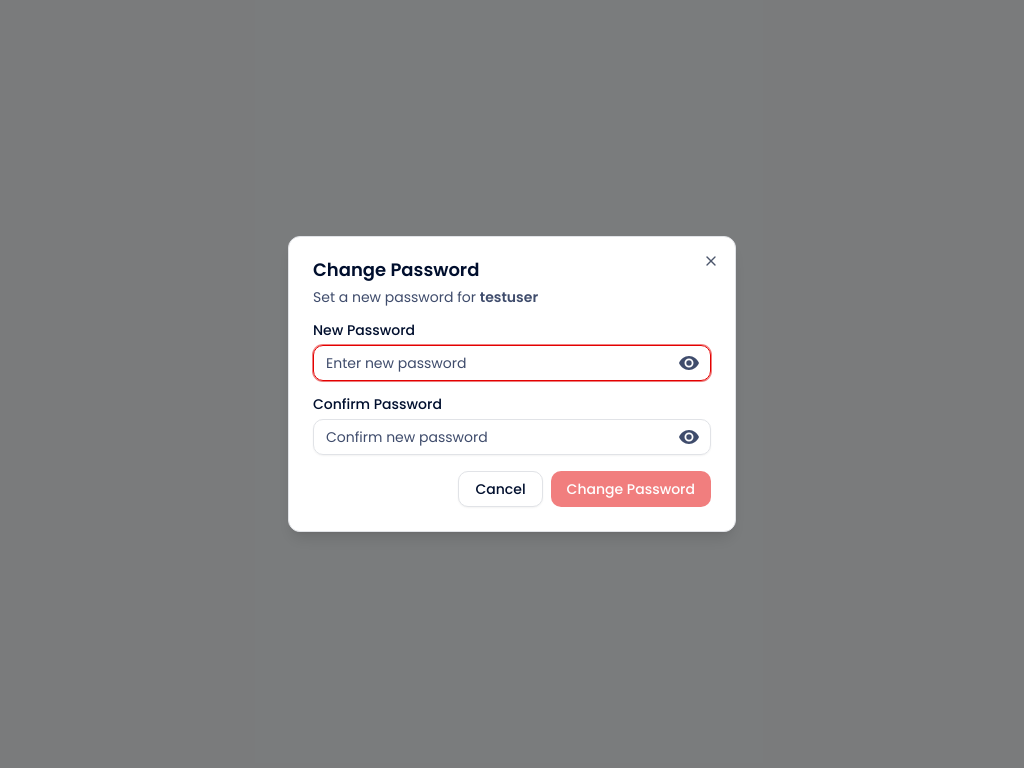
Test: ChangePasswordDialog › shows confirm password mismatch error
This screenshot has width=1024, height=768.
Type "password123" into the password field with placeholder "Enter new password".
click(512, 363); type("password123")  # box [313,345,711,381]
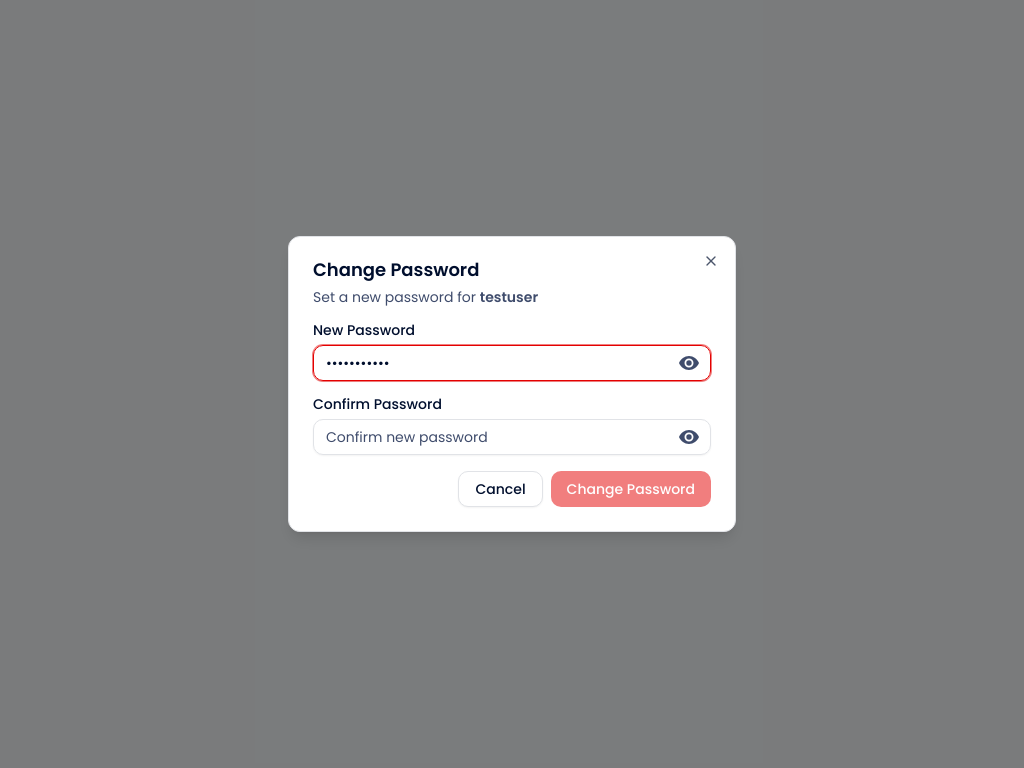
Type "different123" into the password field with placeholder "Confirm new password".
click(512, 437); type("different123")  # box [313,419,711,455]
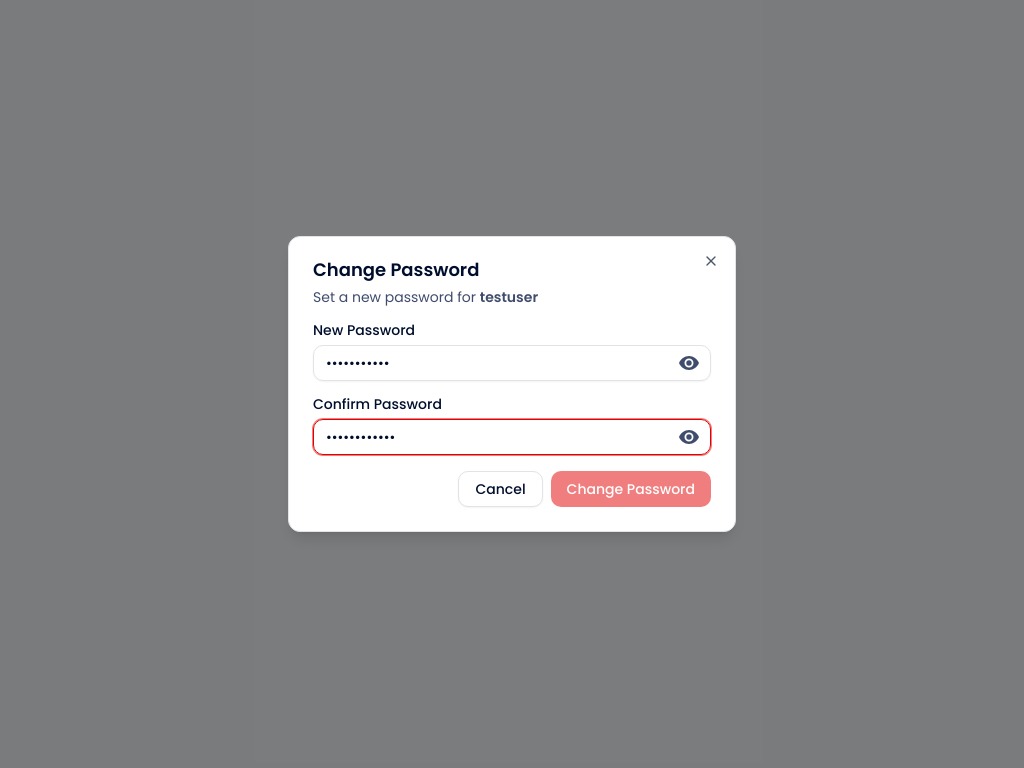
Press Tab
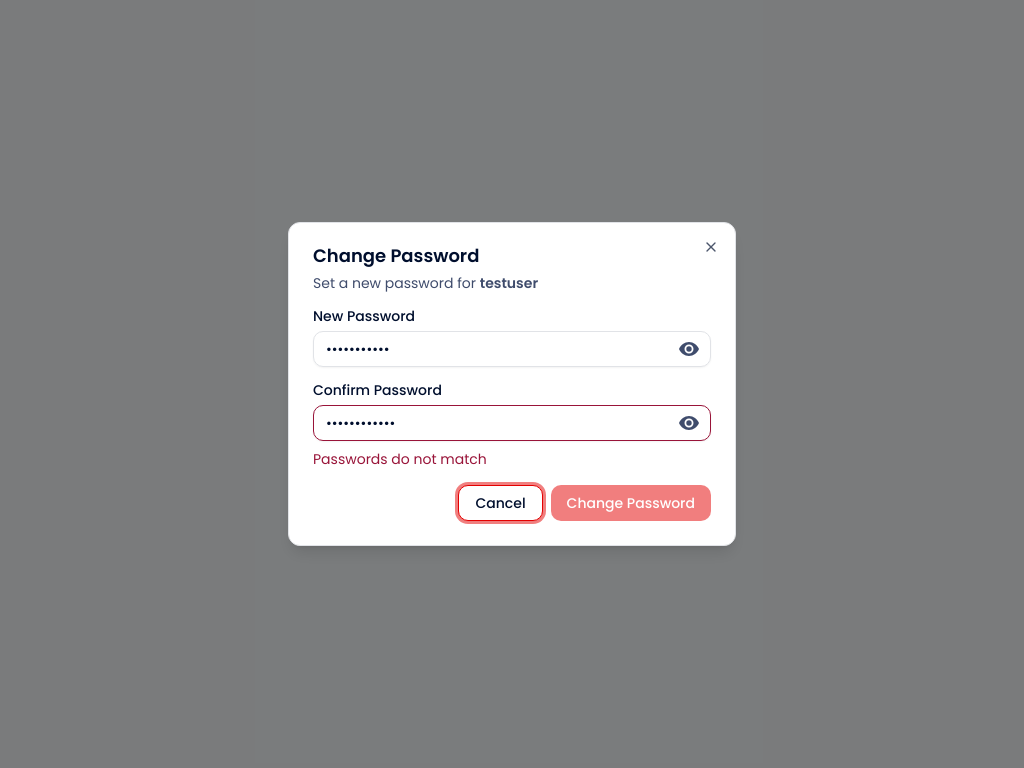
Check: the text "Passwords do not match" is shown, box [313,449,487,469]
